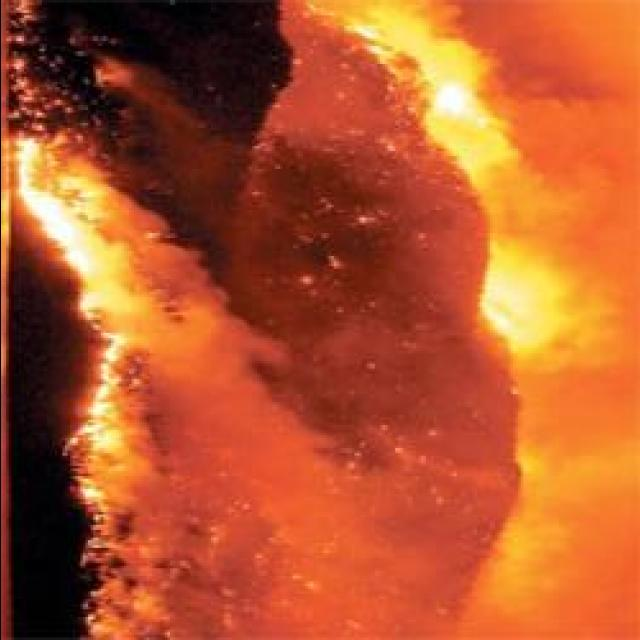fire: (68, 240, 116, 318), (28, 184, 80, 256), (479, 271, 531, 337), (84, 419, 118, 450)
smoke: (479, 0, 637, 198), (522, 438, 632, 636), (146, 338, 298, 458), (122, 250, 260, 360), (534, 220, 629, 370), (323, 1, 489, 58)
